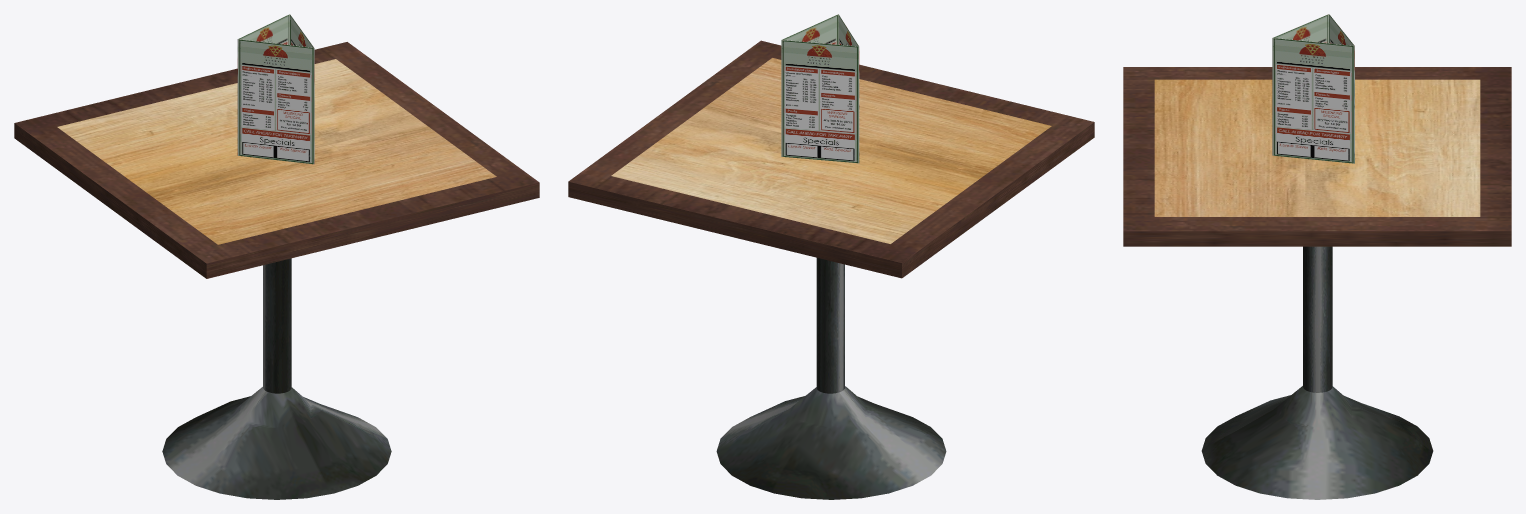
The model's file is mesachica.obj.
The picture shows the model from 3 angles, left to right: view 1: azimuth 30°, elevation 25°; view 2: azimuth 150°, elevation 25°; view 3: azimuth 270°, elevation 25°; orthographic projection.
Parts seen in each view (by area): view 1: pCylinder2, pCube3; view 2: pCylinder2, pCube3; view 3: pCylinder2, pCube3.
Boxes of the visible parts, <box> form: pCylinder2: <box>14,42,539,499</box>; pCube3: <box>237,14,314,164</box>; pCylinder2: <box>568,40,1094,499</box>; pCube3: <box>781,14,859,163</box>; pCylinder2: <box>1123,67,1511,499</box>; pCube3: <box>1272,14,1354,163</box>.
Bounding box in the file's own units: 1.39 × 1.66 × 1.39.
6 materials, 6 textured.
